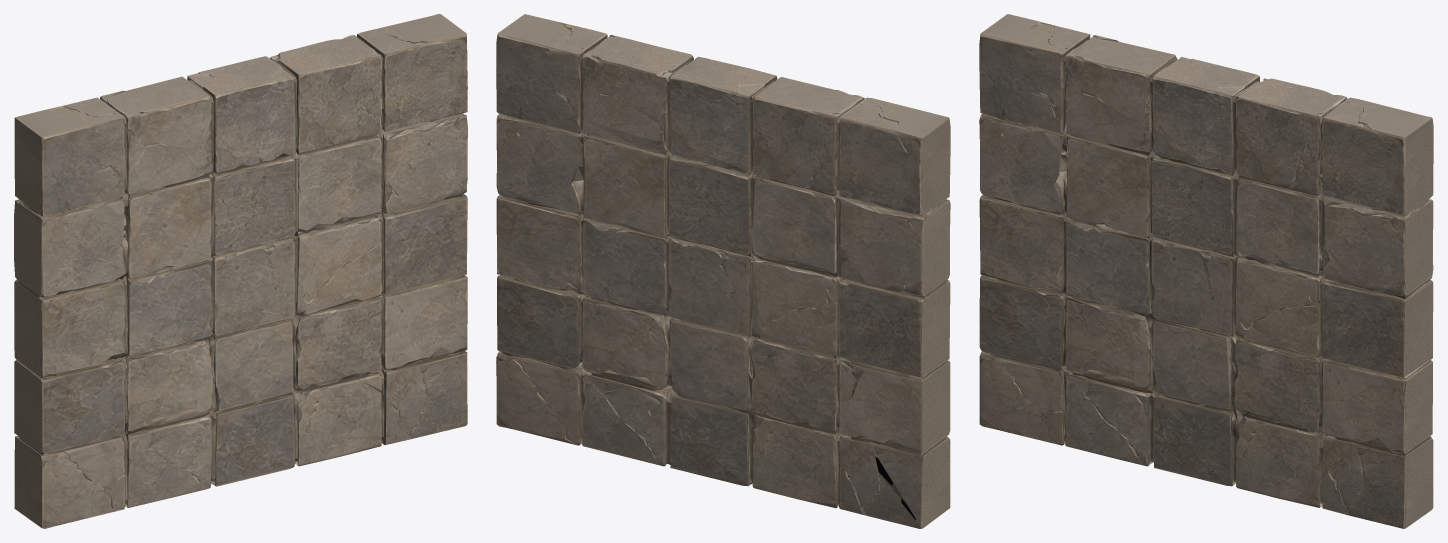
Rendered from ceiling.glb.
3 renders of one model, left to right at view 1: azimuth 30°, elevation 25°; view 2: azimuth 150°, elevation 25°; view 3: azimuth 330°, elevation 25°, orthographic.
Visible parts, largest first — view 1: output_unwrapped; view 2: output_unwrapped; view 3: output_unwrapped.
Boxes of the visible parts, x1,y1,x2,y2 form: output_unwrapped: (14,14,467,528); output_unwrapped: (496,14,950,528); output_unwrapped: (979,14,1433,528).
Bounding box in the file's own units: 1.9 × 1.67 × 0.2329.
Materials: 1 (1 with a texture image).
